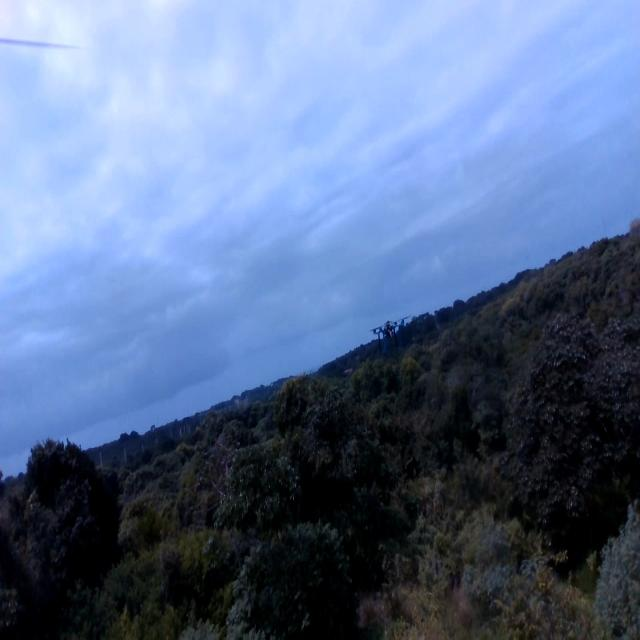-uav-: (368, 310, 414, 368)
